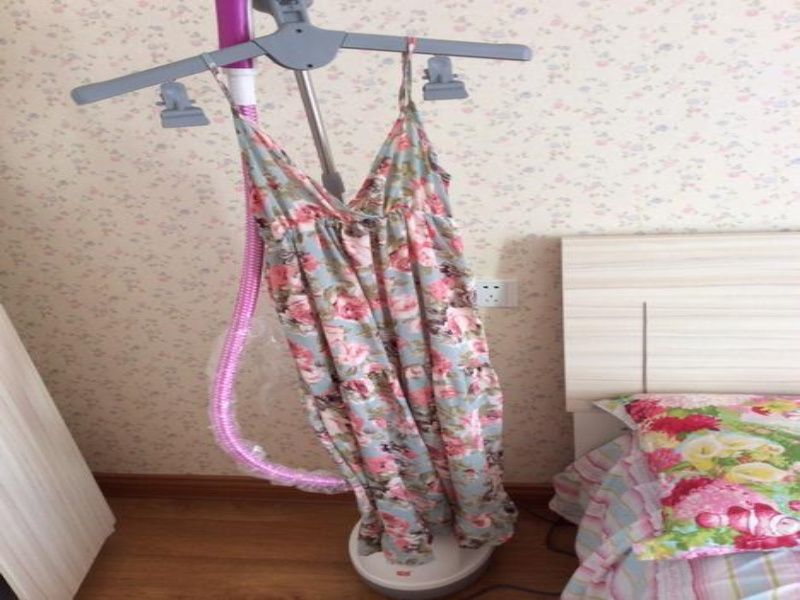sling_dress: (198, 35, 518, 567)
